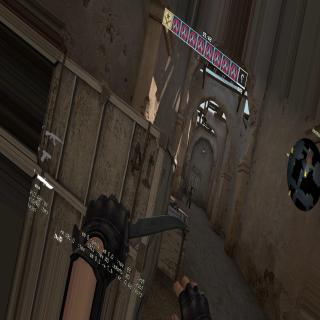CT-Body: (186, 183, 193, 208)
CT-Head: (191, 185, 193, 189)
